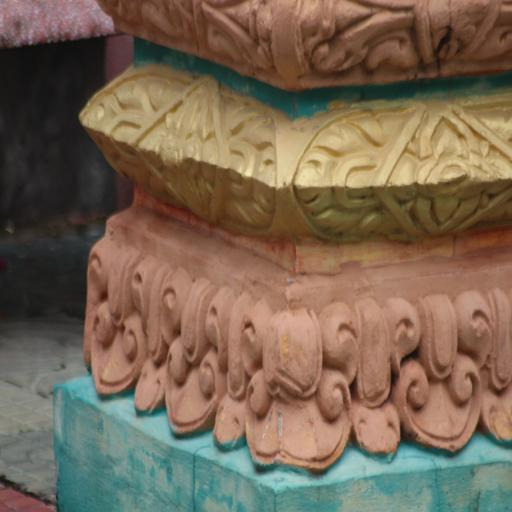la: (76, 69, 282, 232), (290, 109, 512, 237), (292, 0, 512, 83), (247, 296, 341, 473), (382, 290, 482, 454), (324, 293, 414, 462), (103, 0, 285, 62), (84, 239, 146, 394), (169, 263, 225, 432), (208, 282, 261, 443), (460, 282, 512, 436), (125, 260, 174, 418)
